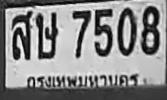0: (117, 6, 136, 55)
5: (93, 8, 112, 56)
7: (71, 10, 90, 57)
8: (140, 5, 159, 54)
A39: (35, 11, 57, 59)
A40: (11, 10, 31, 60)
BKK: (23, 69, 143, 89)
